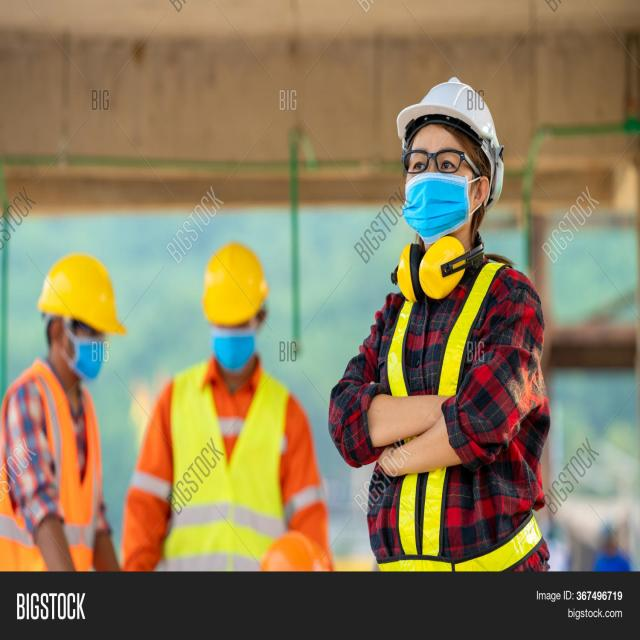Reflective-Jacket: (379, 261, 541, 570), (129, 362, 326, 569), (1, 363, 106, 570)
Safety-Helmet: (35, 246, 128, 340), (395, 75, 505, 149), (198, 237, 273, 332), (416, 232, 469, 295)
